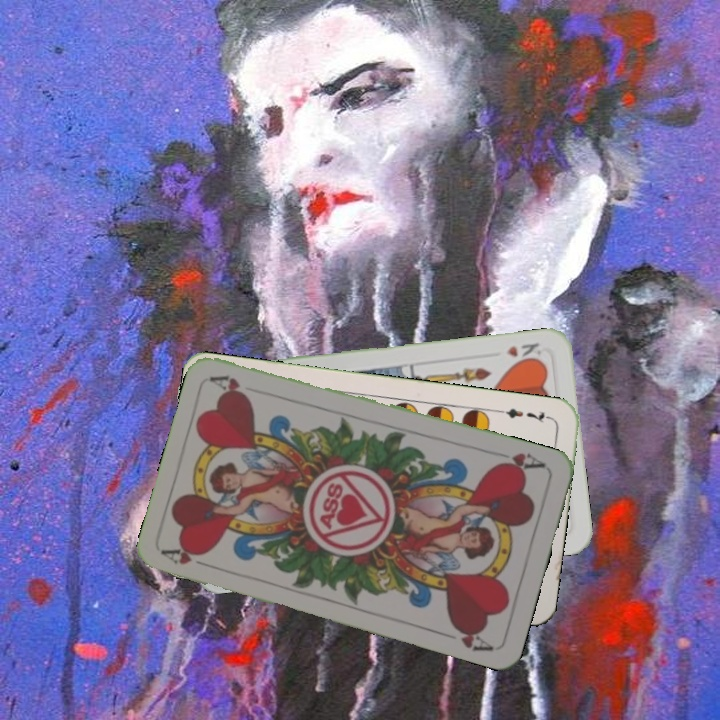E7: (495, 404, 554, 425)
HA: (159, 542, 218, 571), (491, 447, 548, 476)
HK: (503, 339, 543, 366)
